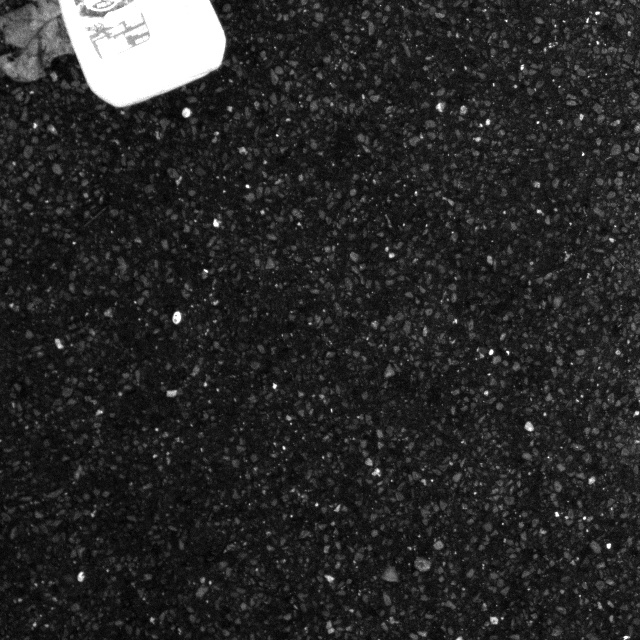can: (57, 0, 215, 107)
